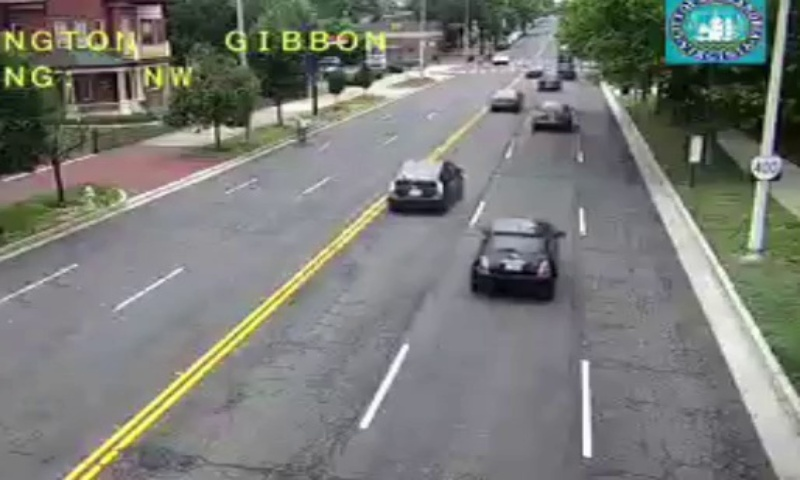car: (473, 218, 557, 285), (389, 160, 463, 209), (530, 102, 571, 130), (490, 90, 519, 111)
